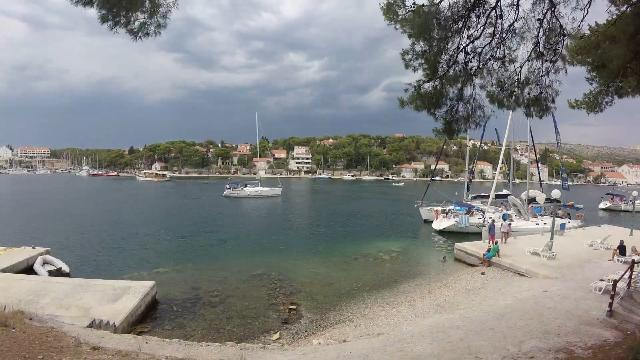Freighter: (130, 164, 176, 184)
Sailboat: (216, 178, 290, 202)
speedboat: (388, 178, 410, 190)
